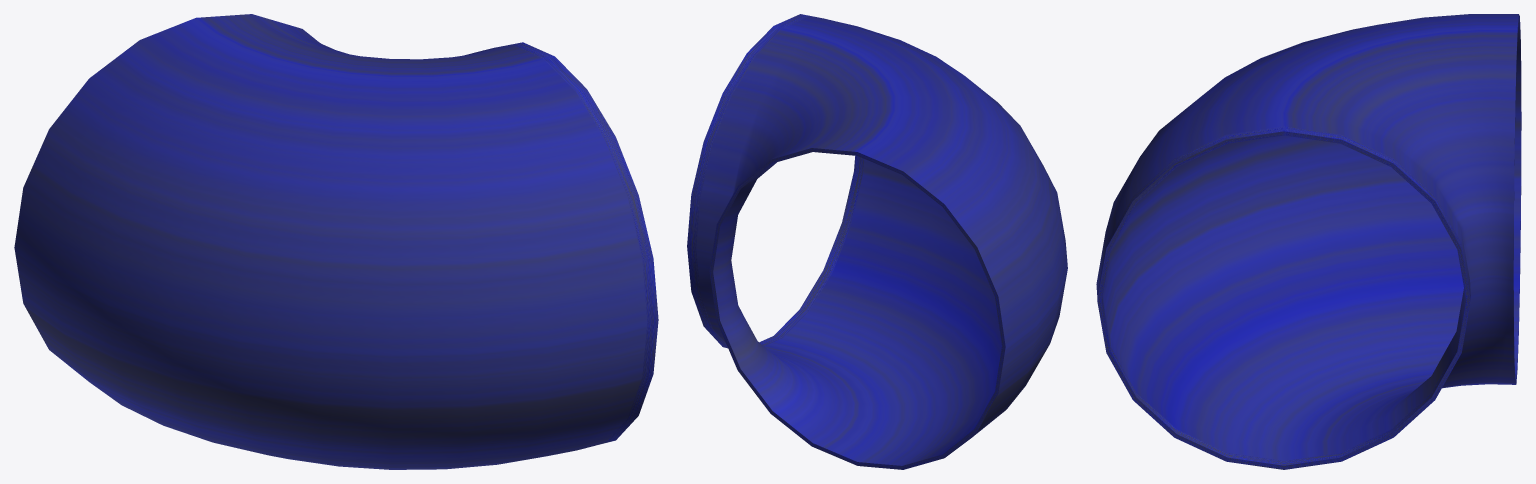
The model's file is CubeBaseFrontPipeCurvB.fbx.
3 views of the same model, side by side, from view 1: azimuth 30°, elevation 25°; view 2: azimuth 150°, elevation 25°; view 3: azimuth 270°, elevation 25° (orthographic). The views are drawn at different scales.
Visible parts, largest first — view 1: pPipe2; view 2: pPipe2; view 3: pPipe2.
Boxes of the visible parts, <box> form: pPipe2: <box>14,14,658,469</box>; pPipe2: <box>687,14,1067,469</box>; pPipe2: <box>1096,14,1521,469</box>.
Bounding box in the file's own units: 0.9124 × 0.8 × 0.91.
1 material, 1 textured.
